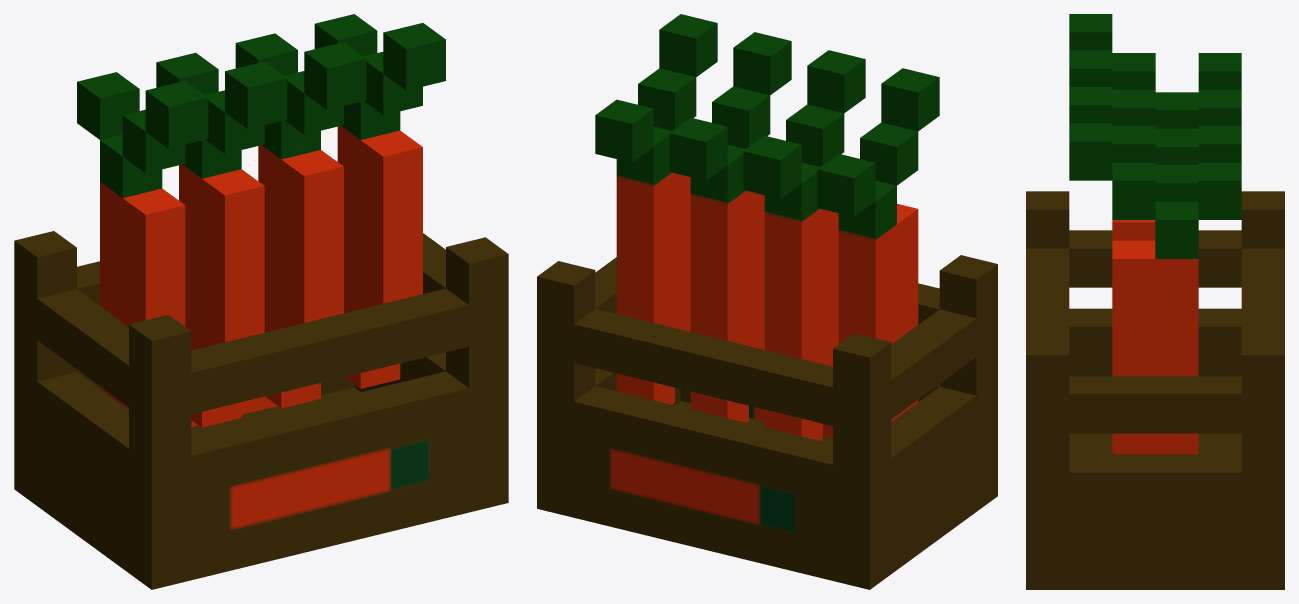
File: chapter2_carrotbox.fbx
The picture shows the model from 3 angles, left to right: view 1: azimuth 30°, elevation 25°; view 2: azimuth 150°, elevation 25°; view 3: azimuth 270°, elevation 25°; orthographic projection. The views are drawn at different scales.
Visible parts, largest first — view 1: Matrix, Matrix_3, Matrix_4, Matrix_2, Matrix_1; view 2: Matrix, Matrix_4, Matrix_3, Matrix_2, Matrix_1; view 3: Matrix, Matrix_4, Matrix_3, Matrix_1, Matrix_2.
Boxes of the visible parts, box(x1,y1,x2,y2) form: Matrix: box(14, 231, 508, 589); Matrix_3: box(235, 33, 366, 408); Matrix_4: box(314, 14, 445, 388); Matrix_2: box(156, 52, 287, 427); Matrix_1: box(77, 72, 208, 409); Matrix: box(537, 255, 997, 589); Matrix_4: box(595, 14, 717, 404); Matrix_3: box(669, 32, 791, 422); Matrix_2: box(743, 50, 865, 440); Matrix_1: box(817, 68, 939, 421); Matrix: box(1026, 191, 1284, 589); Matrix_4: box(1069, 123, 1241, 454); Matrix_3: box(1069, 87, 1241, 240); Matrix_1: box(1069, 14, 1241, 128); Matrix_2: box(1069, 50, 1241, 164).
Bounding box in the file's own units: 9 × 11 × 6.
